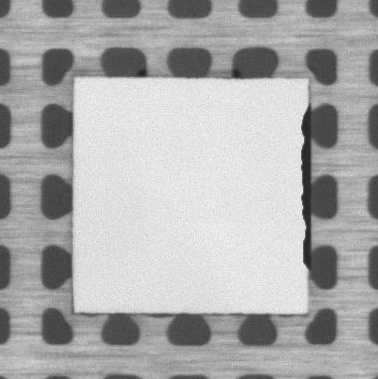DIE_BROKEN: (298, 110, 313, 275)
